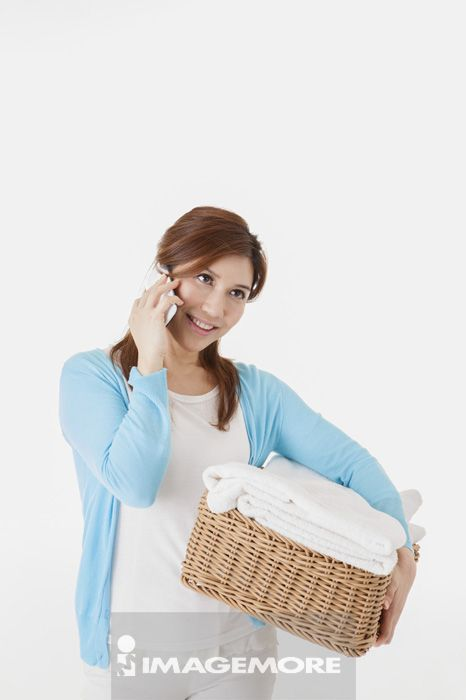phone: (144, 261, 182, 328)
talk: (125, 250, 250, 362)
